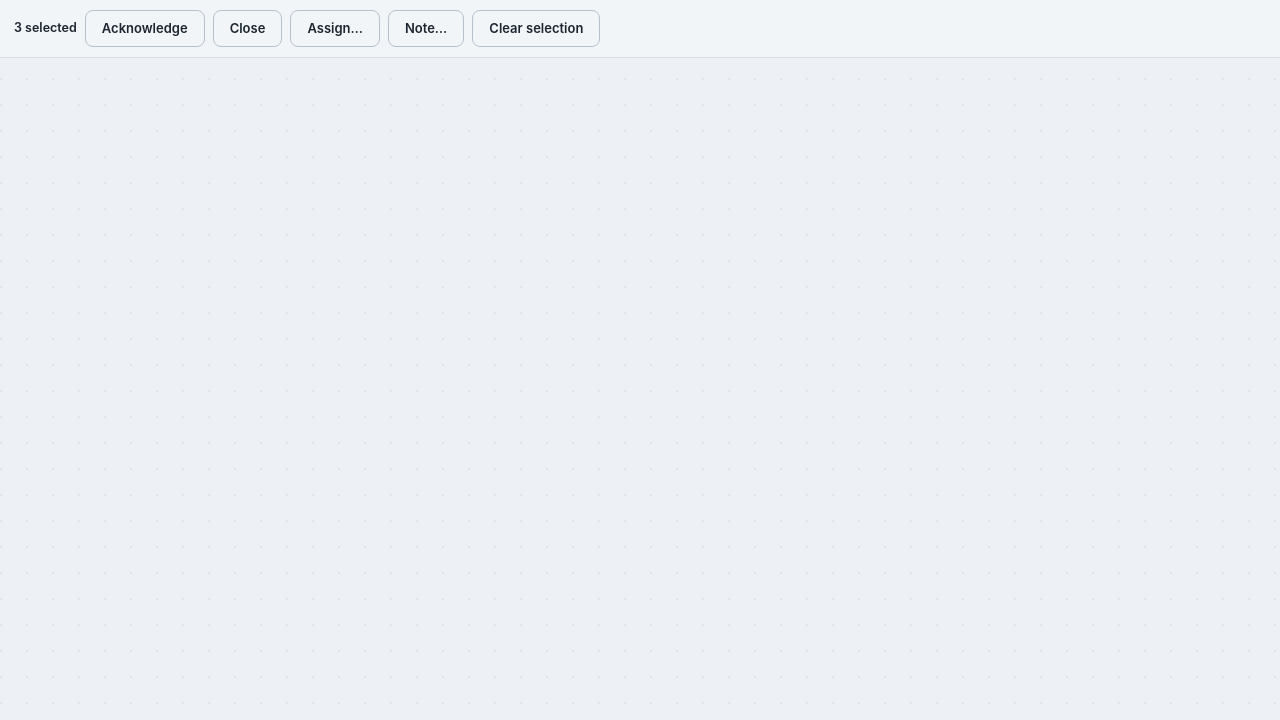
Test case: BulkActionBar › reports all three outcomes rather than collapsing them
Click the button "Close" at [247, 28], box [213,10,282,47]
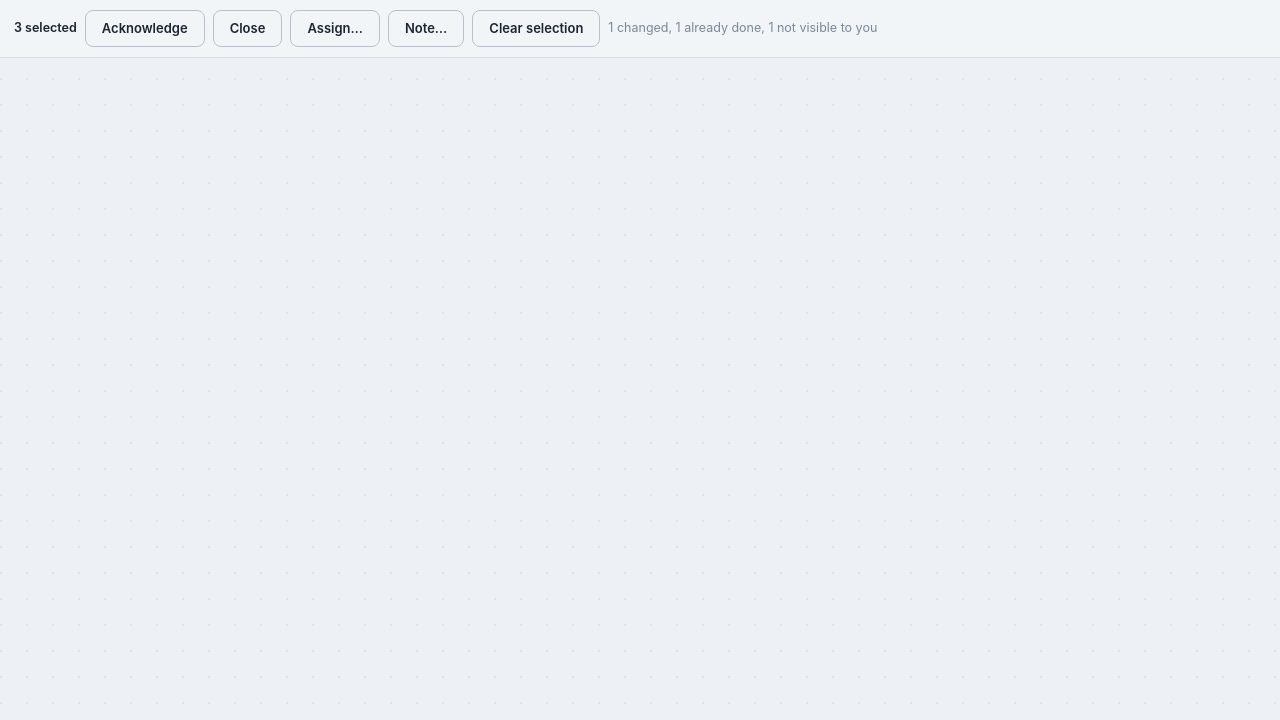
expect the message reads "1 changed, 1 already done, 1 not visible to you": met, box [608,20,877,35]
